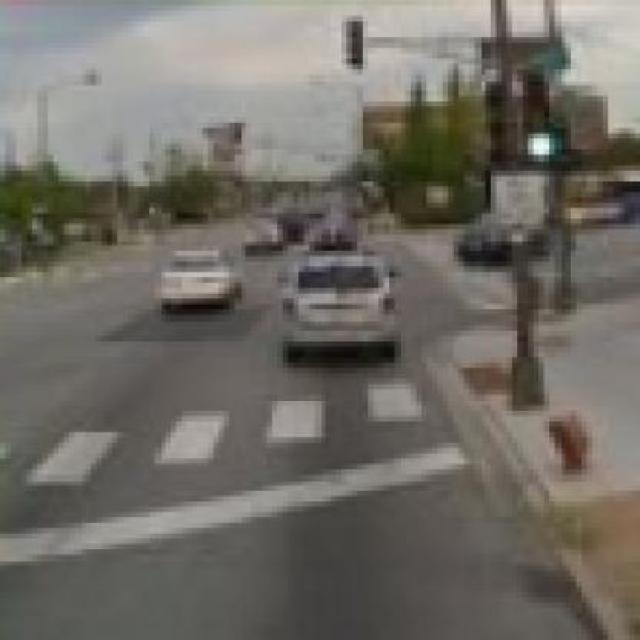crosswalk: (5, 376, 435, 501)
